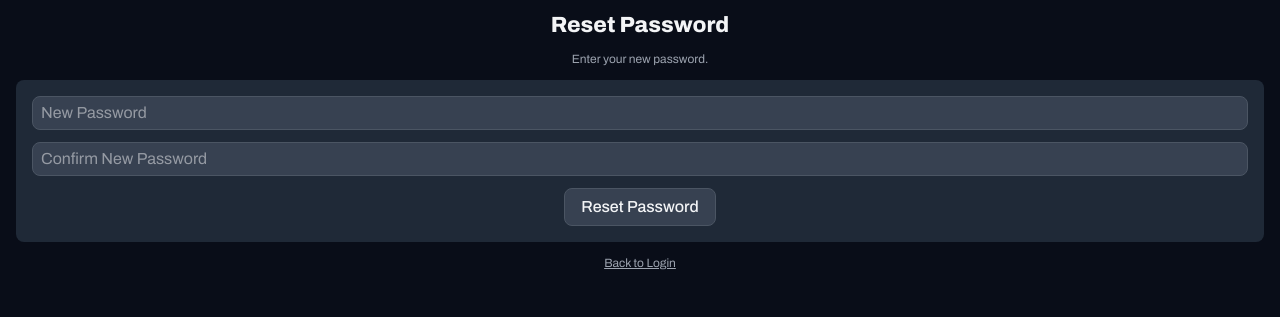
Test: ResetPasswordForm Component › Validation › shows error when passwords do not match
Type "NewPassword1!" into the password field with test id "password-input" at {"x": 640, "y": 113}, box top-left (32, 96), bottom-right (1248, 130)
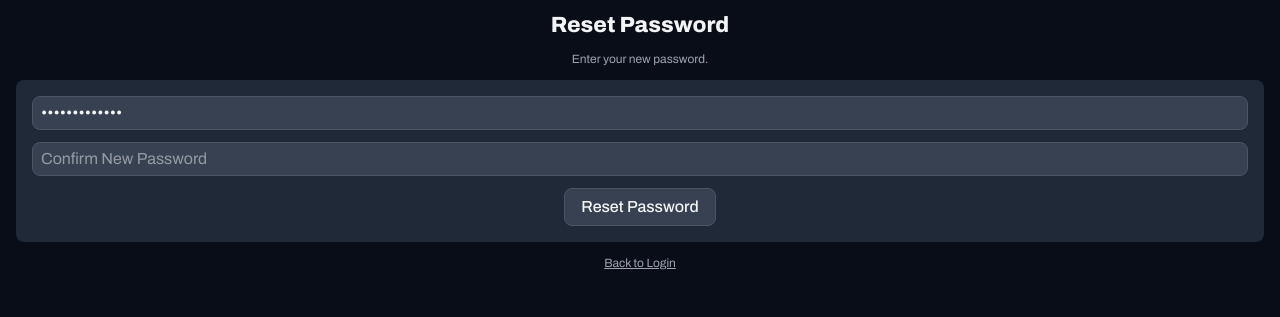
Type "DifferentPassword1!" into the password field with test id "password-confirmation-input" at {"x": 640, "y": 159}, box top-left (32, 142), bottom-right (1248, 176)
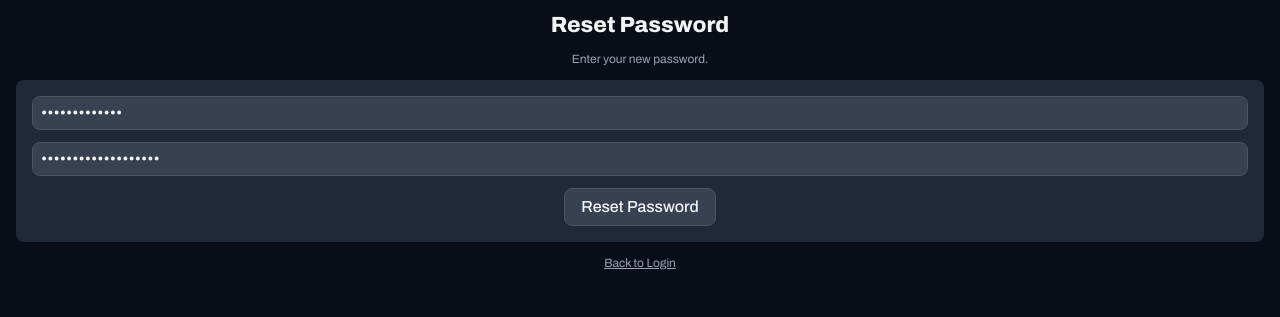
Click the button with test id "reset-password-button" at {"x": 640, "y": 207}, box top-left (564, 188), bottom-right (716, 226)
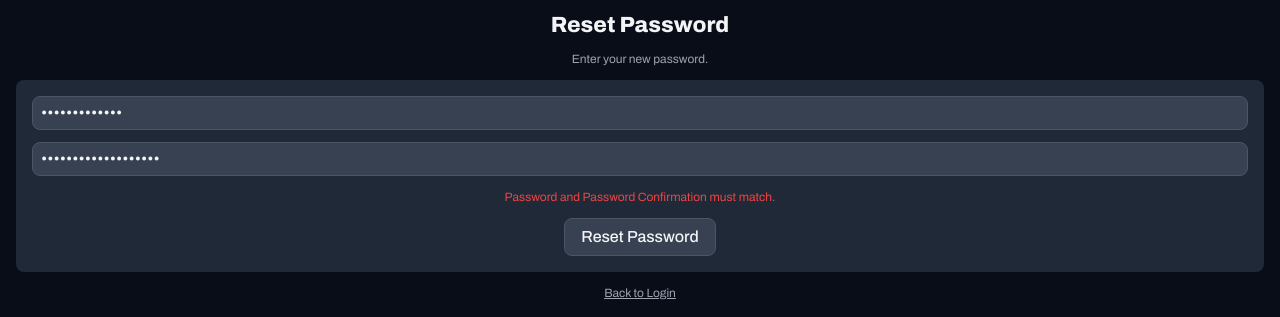
Result: the text "Password and Password Confirmation must match." is shown at top-left (505, 188), bottom-right (775, 206)
Result: the text with class "error-message" reads "Password and Password Confirmation must match." at top-left (505, 190), bottom-right (775, 204)
